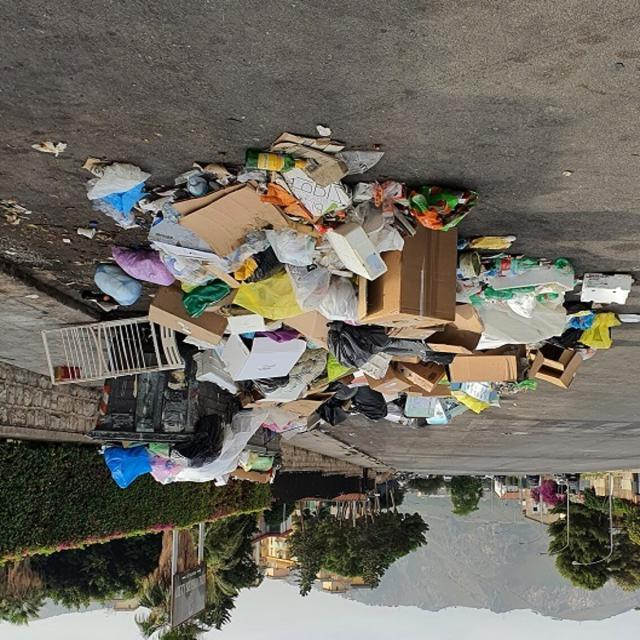Trashbag: (328, 334, 384, 375)
